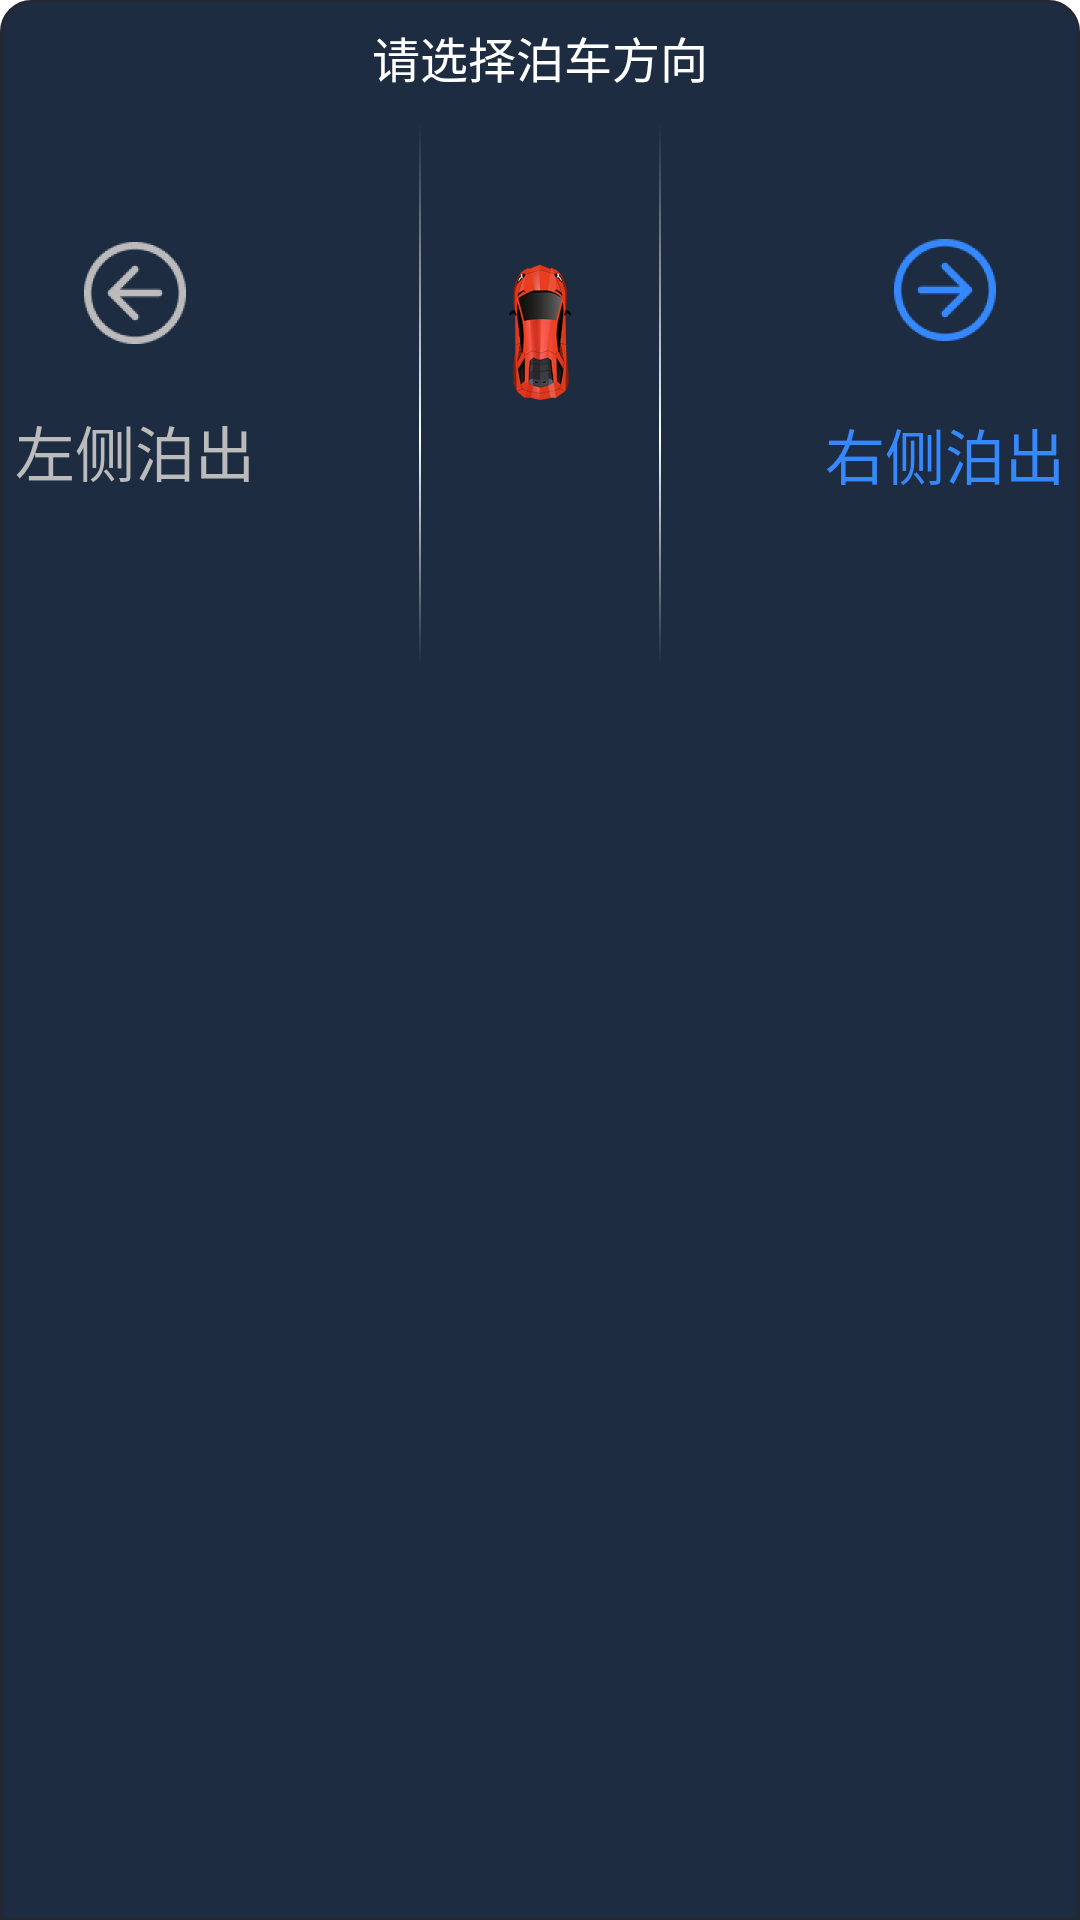

Icons on this 1080 × 1920 Android screen, each with the point to tap as [x,y]:
park car: [540,332]
park left arrow: [135,293]
park right arrow: [945,290]
